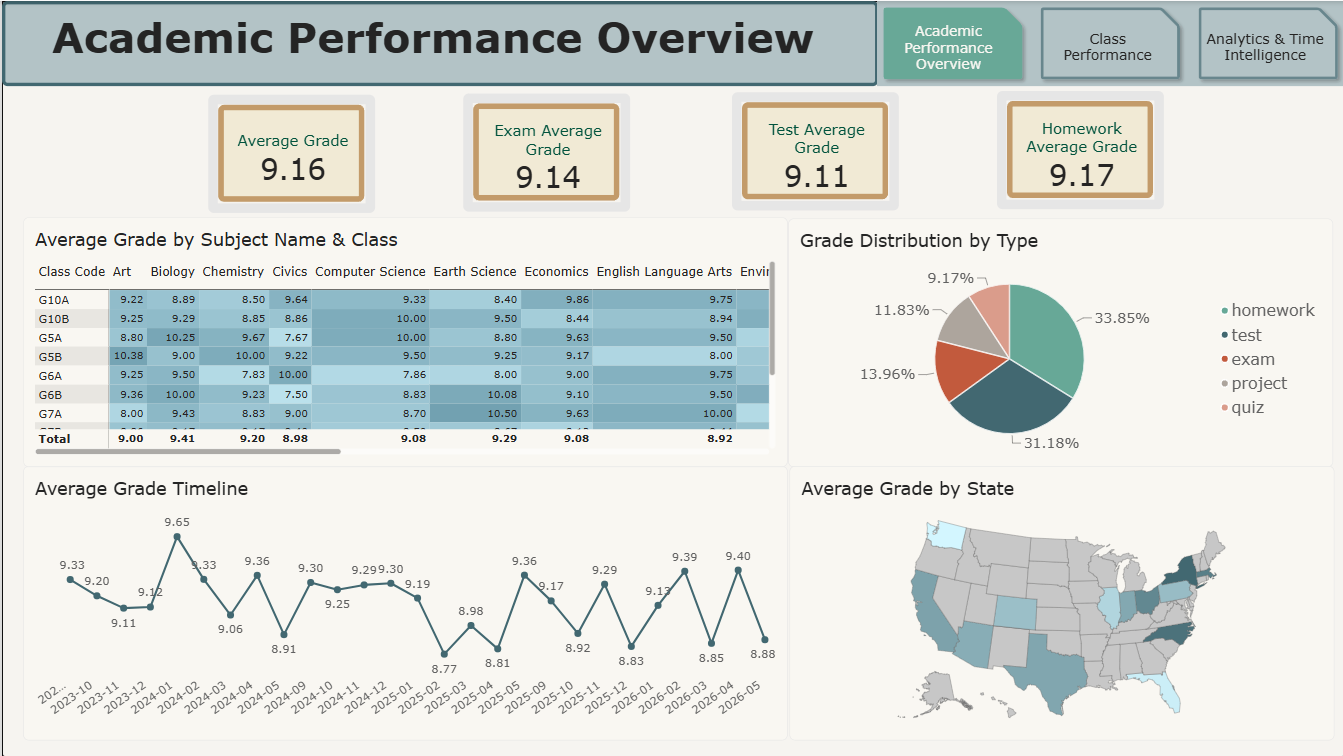

The page's visual inventory and layout, read from the dashboard file:
{"tool":"powerbi","page":{"name":"Academic Performance Overview ","canvas":[1920,1080],"ordinal":0},"visuals":[{"type":"cardVisual","fields":{"Data":["Avg(grades.grade_value)"]},"box":[293.8,134.3,238.8,168.8],"z":0},{"type":"cardVisual","fields":{"Data":["Avg(grades.grade_value)"]},"box":[658.8,132.6,238.8,168.8],"z":1000},{"type":"cardVisual","fields":{"Data":["Avg(grades.grade_value)"]},"box":[1042.1,131,238.8,168.8],"z":2000},{"type":"cardVisual","fields":{"Data":["Avg(grades.grade_value)"]},"box":[1422.1,129.3,238.8,168.8],"z":3000},{"type":"lineChart","title":"Average Grade Timeline","fields":{"Category":["Calendar.Year-Month"],"Y":["Avg(grades.grade_value)"]},"box":[30.4,664,1092,392],"z":4000},{"type":"pivotTable","title":"Average Grade by Subject Name & Class","fields":{"Columns":["subjects.subject_name"],"Rows":["classes.class_code"],"Values":["Avg(grades.grade_value)"]},"box":[30.4,308.1,1091.7,356.7],"z":5000},{"type":"pieChart","title":"Grade Distribution by Type","fields":{"Category":["grades.grade_type"],"Y":["CountNonNull(grades.grade_id)"]},"box":[1123.2,310.7,778.6,355.4],"z":6000},{"type":"shapeMap","title":"Average Grade by State","fields":{"Category":["students.state"],"Value":["Avg(grades.grade_value)"]},"box":[1125,664.3,778,392],"z":7000},{"type":"textbox","box":[0,0,1251.8,121.4],"z":8000},{"type":"pageNavigator","box":[1250,0,669.6,121.4],"z":9000}]}

Visuals, with their boxes in screenshot pixels (x1, y1, x2, y2), scaled from the page's 1920x1080 canvas onto the 1343x756 screenshot:
cardVisual - Avg(grades.grade_value): [206,94,373,212]
cardVisual - Avg(grades.grade_value): [461,93,628,211]
cardVisual - Avg(grades.grade_value): [729,92,896,210]
cardVisual - Avg(grades.grade_value): [995,91,1162,209]
"Average Grade Timeline" lineChart: [21,465,785,739]
"Average Grade by Subject Name & Class" pivotTable: [21,216,785,465]
"Grade Distribution by Type" pieChart: [786,217,1330,466]
"Average Grade by State" shapeMap: [787,465,1331,739]
textbox: [0,0,876,85]
pageNavigator: [874,0,1342,85]
